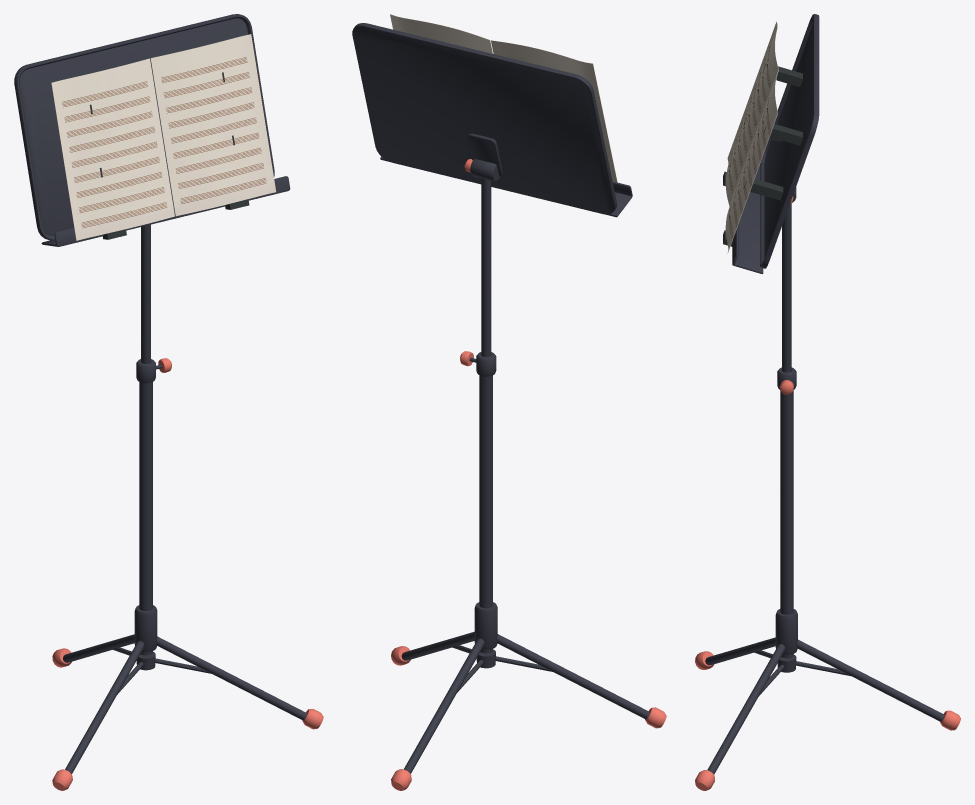
3 renders of one model, left to right at view 1: azimuth 30°, elevation 25°; view 2: azimuth 150°, elevation 25°; view 3: azimuth 270°, elevation 25°, orthographic. The views are drawn at different scales.
Visible parts, largest first — view 1: singing-score-pages, singing-score-panel-and-slider, singing-tripod; view 2: singing-score-panel-and-slider, singing-tripod, singing-score-pages; view 3: singing-score-panel-and-slider, singing-tripod, singing-score-pages, score-pad-right-mid.
Part boxes in pixels (left/top/right/bottom): singing-score-pages: left=51, top=34, right=276, bottom=240; singing-score-panel-and-slider: left=14, top=14, right=290, bottom=363; singing-tripod: left=52, top=358, right=323, bottom=790; singing-score-panel-and-slider: left=352, top=23, right=632, bottom=356; singing-tripod: left=391, top=351, right=666, bottom=790; singing-score-pages: left=390, top=14, right=617, bottom=182; singing-score-panel-and-slider: left=732, top=14, right=819, bottom=372; singing-tripod: left=695, top=367, right=960, bottom=790; singing-score-pages: left=725, top=21, right=778, bottom=253; score-pad-right-mid: left=743, top=178, right=783, bottom=200.
Bounding box in the file's own units: 0.5712 × 1.37 × 0.4985.
Materials: 3 (2 with a texture image).
